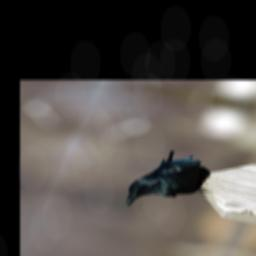Crow: (121, 146, 224, 217)
